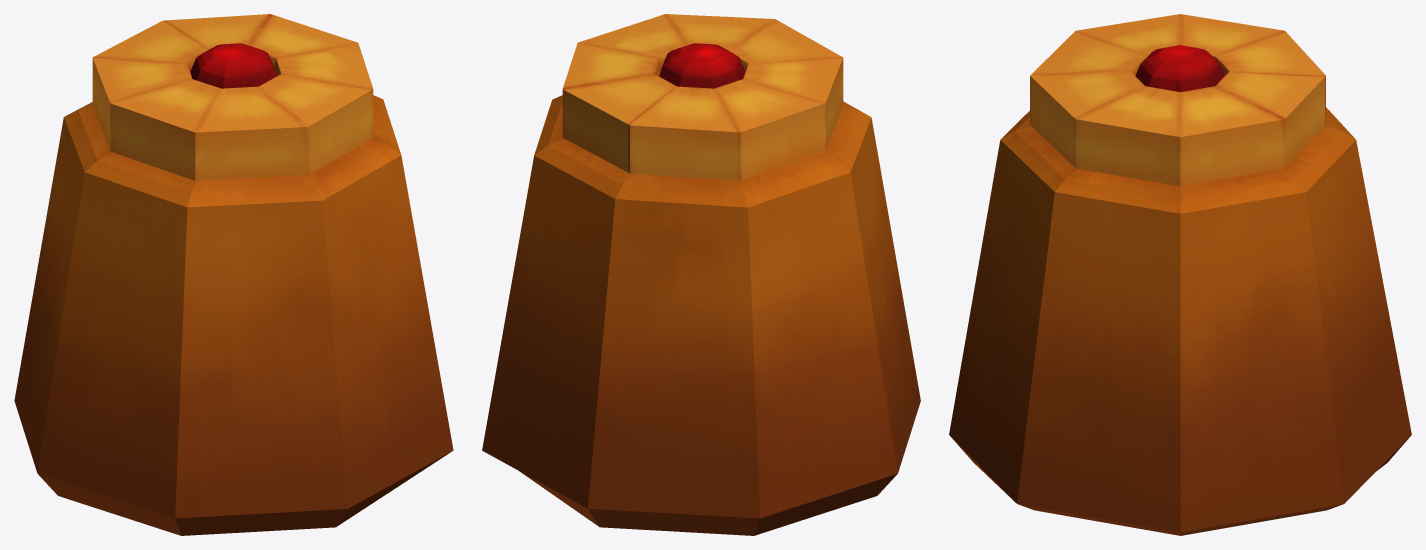
The model's file is 2tier_2.glb.
The picture shows the model from 3 angles, left to right: view 1: azimuth 30°, elevation 25°; view 2: azimuth 150°, elevation 25°; view 3: azimuth 270°, elevation 25°; orthographic projection.
Size of the model in its own units: 0.9809 by 0.9592 by 0.9818.
Materials: 1 (1 with a texture image).
